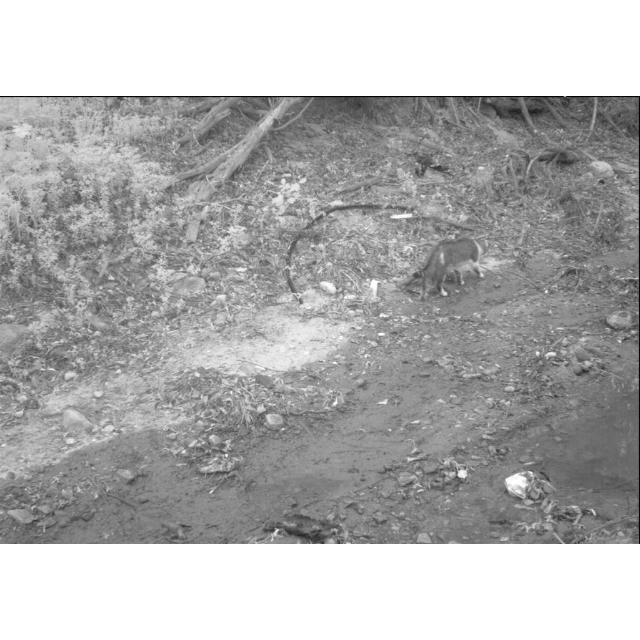animals: (413, 234, 492, 300)
